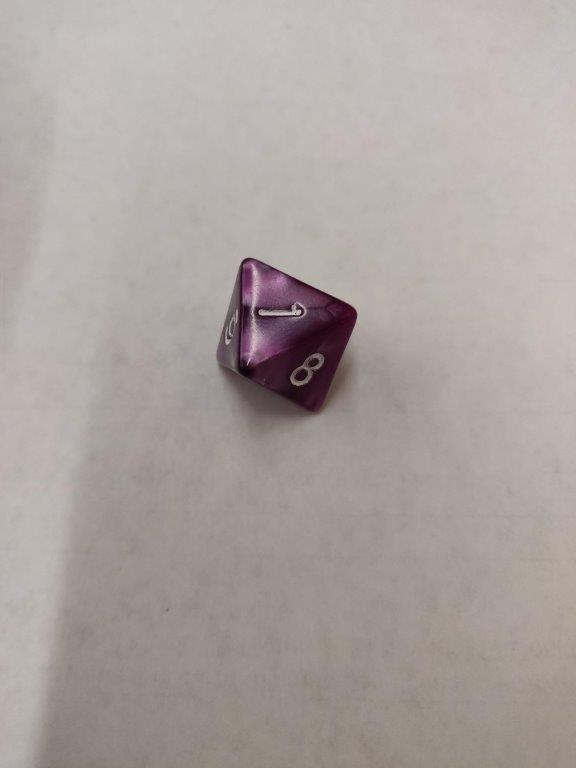d8-1: (214, 257, 358, 413)
